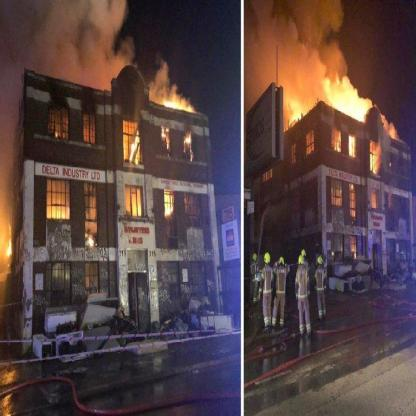fire: (321, 81, 373, 129), (157, 87, 198, 114), (287, 96, 307, 134), (47, 198, 70, 224), (3, 218, 14, 268), (128, 129, 140, 165), (163, 188, 176, 219), (369, 149, 381, 177), (160, 123, 171, 153), (183, 131, 194, 161), (332, 128, 342, 158), (84, 230, 98, 251), (348, 132, 357, 164), (131, 201, 143, 216), (53, 129, 60, 139)
